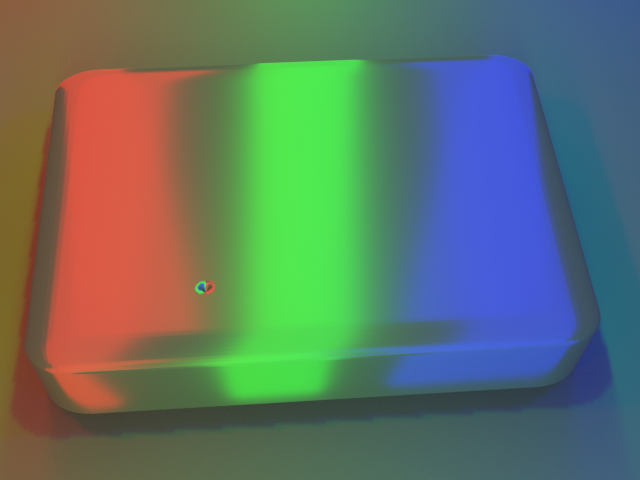dent: (172, 273, 213, 310)
